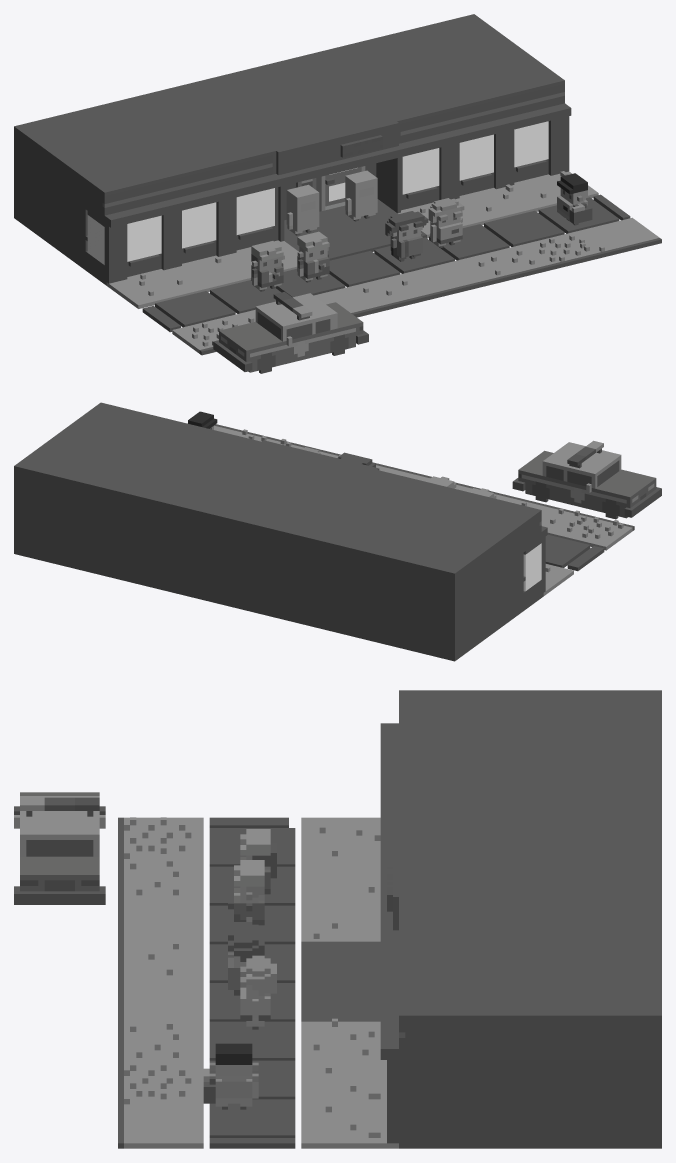
Rendered from scene_hazmat2.obj.
The picture shows the model from 3 angles, top to bottom: view 1: azimuth 30°, elevation 25°; view 2: azimuth 150°, elevation 25°; view 3: azimuth 270°, elevation 25°; orthographic projection. The views are drawn at different scales.
Bounding box in the file's own units: 126 × 24 × 106.
